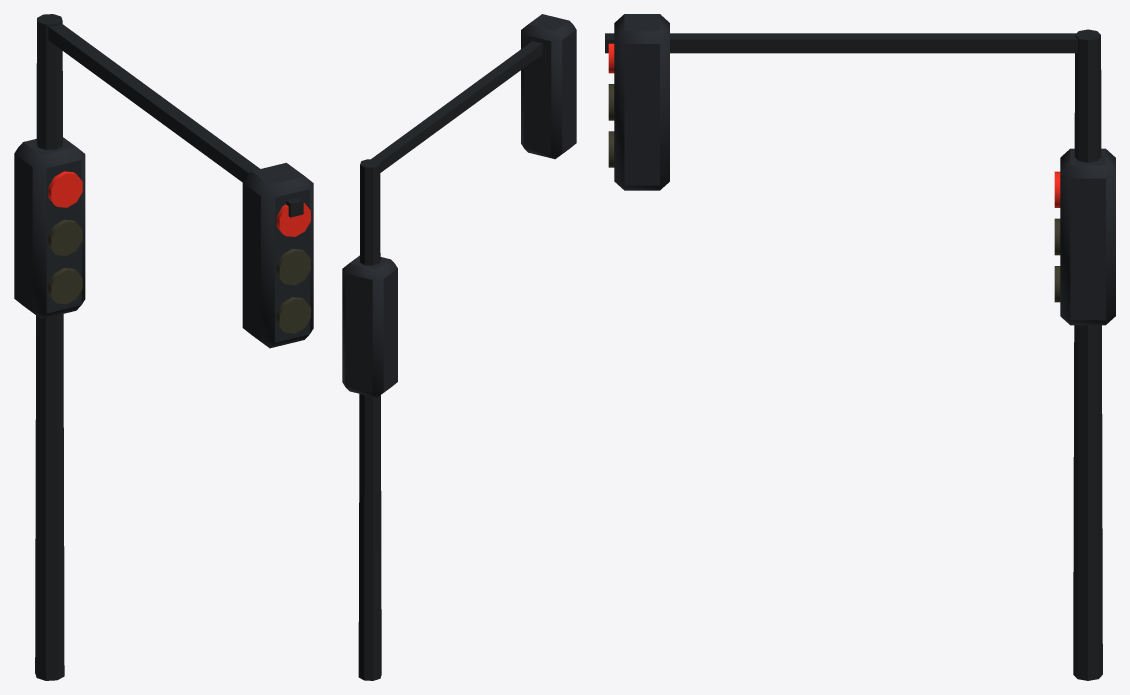
The model's file is traffic_light.fbx.
The picture shows the model from 3 angles, left to right: view 1: azimuth 30°, elevation 25°; view 2: azimuth 150°, elevation 25°; view 3: azimuth 270°, elevation 25°; orthographic projection. The views are drawn at different scales.
Visible parts, largest first — view 1: traffic_light; view 2: traffic_light; view 3: traffic_light.
Boxes of the visible parts, box(x1,y1,x2,y2) form: traffic_light: box(14, 14, 313, 680); traffic_light: box(342, 14, 576, 680); traffic_light: box(605, 14, 1115, 680).
Bounding box in the file's own units: 0.32 × 3.88 × 2.75.
